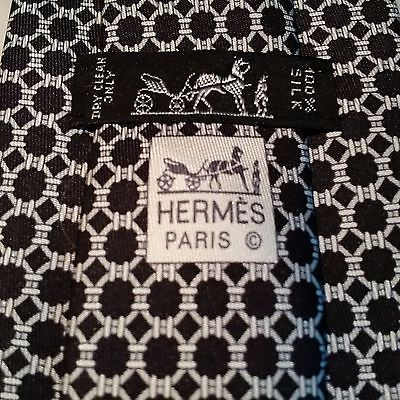HERMES: (155, 144, 269, 258)
